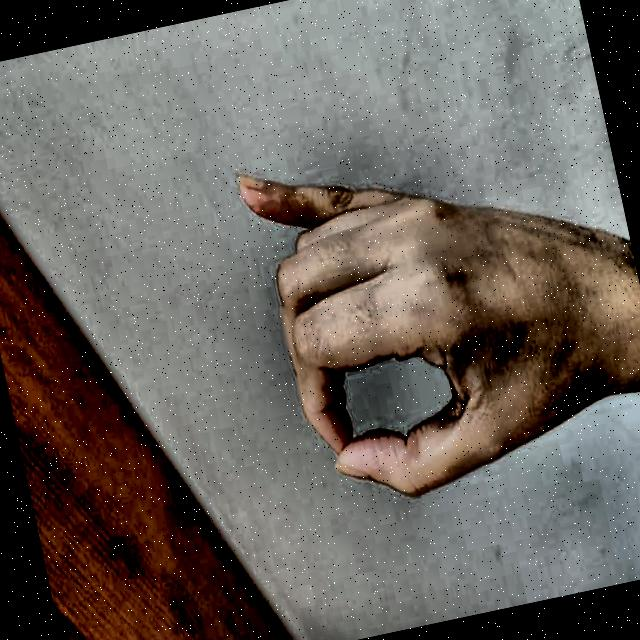Ou: (200, 71, 640, 568)
